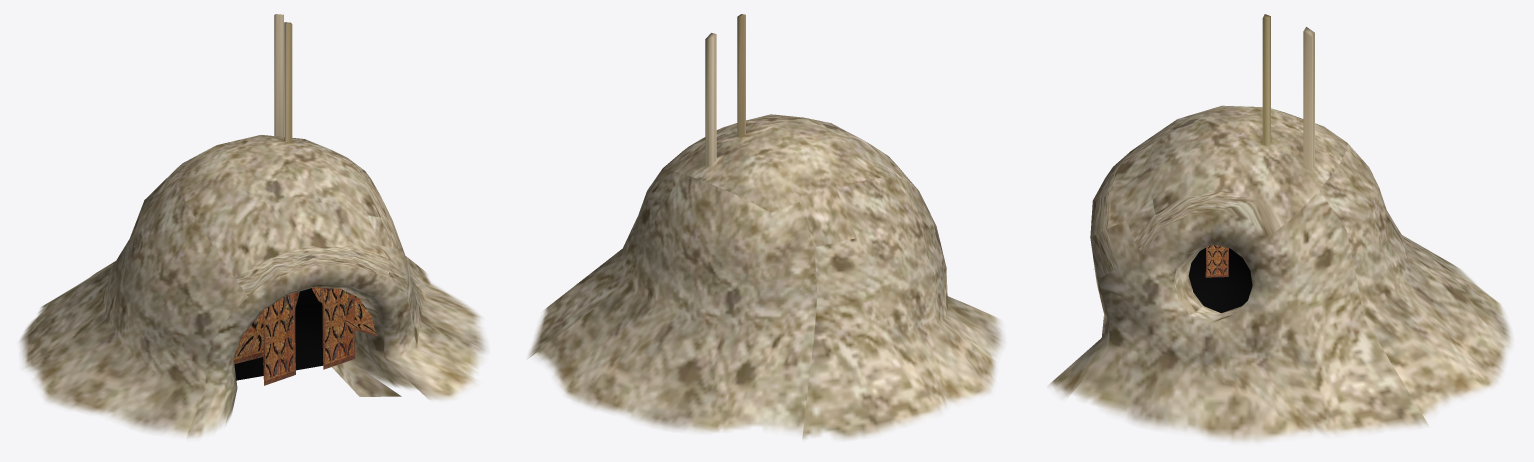
File: Adobe2.glb
3 renders of one model, left to right at view 1: azimuth 30°, elevation 25°; view 2: azimuth 150°, elevation 25°; view 3: azimuth 270°, elevation 25°, orthographic. The views are drawn at different scales.
Visible parts, largest first — view 1: Retopo_Roundcube, Plane, Plane_001; view 2: Retopo_Roundcube; view 3: Retopo_Roundcube, Plane.
Boxes of the visible parts, left/top/right/bottom form: Retopo_Roundcube: left=19, top=14, right=487, bottom=438; Plane: left=262, top=287, right=355, bottom=385; Plane_001: left=233, top=287, right=377, bottom=364; Retopo_Roundcube: left=528, top=14, right=1004, bottom=439; Retopo_Roundcube: left=1048, top=14, right=1512, bottom=441; Plane: left=1205, top=245, right=1228, bottom=277.
Size of the model in its own units: 6.25 by 4.51 by 5.73.
3 materials, 2 textured.
